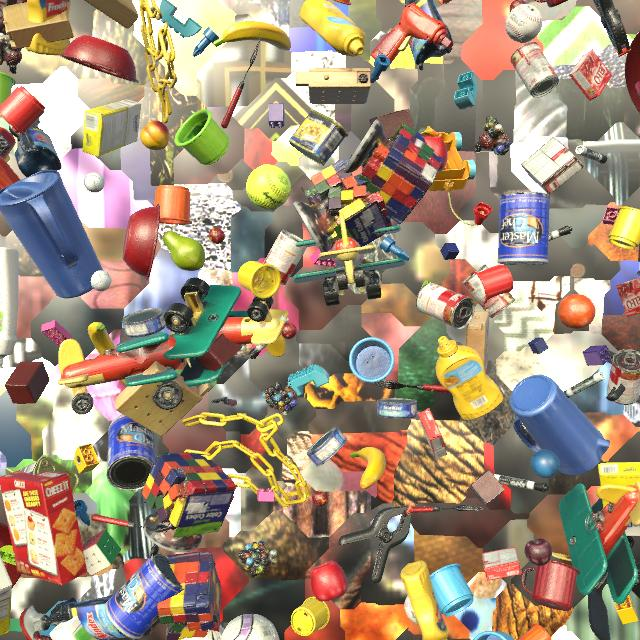ycb_002_master_chef_can: (105, 552, 185, 639), (497, 192, 550, 265), (107, 415, 155, 491)
ycb_003_cracker_box: (0, 470, 87, 585)
ycb_004_sugar_box: (82, 99, 141, 157), (598, 462, 640, 536), (0, 556, 12, 636)
ycb_005_tomato_soup_can: (462, 264, 515, 318), (416, 283, 475, 330), (510, 42, 559, 98), (263, 230, 308, 285), (607, 349, 640, 405)
ycb_006_mustard_bottle: (436, 336, 503, 420), (400, 560, 449, 640), (299, 0, 366, 56), (26, 0, 71, 56)
ycb_007_tuna_fish_can: (307, 427, 347, 467), (121, 308, 166, 338), (377, 398, 417, 419)
ycb_008_pudding_box: (521, 137, 584, 195), (0, 0, 17, 35)
ycb_009_gelatin_box: (569, 49, 612, 101), (417, 408, 447, 459), (482, 547, 522, 581), (616, 278, 640, 317)
ycb_010_potted_meat_can: (289, 109, 349, 166), (20, 456, 79, 494)
ycb_011_banana: (88, 322, 126, 386), (213, 21, 291, 51), (350, 447, 386, 489)
ycb_013_apple: (310, 561, 348, 602), (424, 136, 448, 172)
ycb_015_peach: (140, 120, 169, 150)
ycb_016_pear: (162, 231, 205, 271)
ycb_017_orange: (558, 294, 596, 329)
ycb_018_plum: (524, 538, 552, 566)
